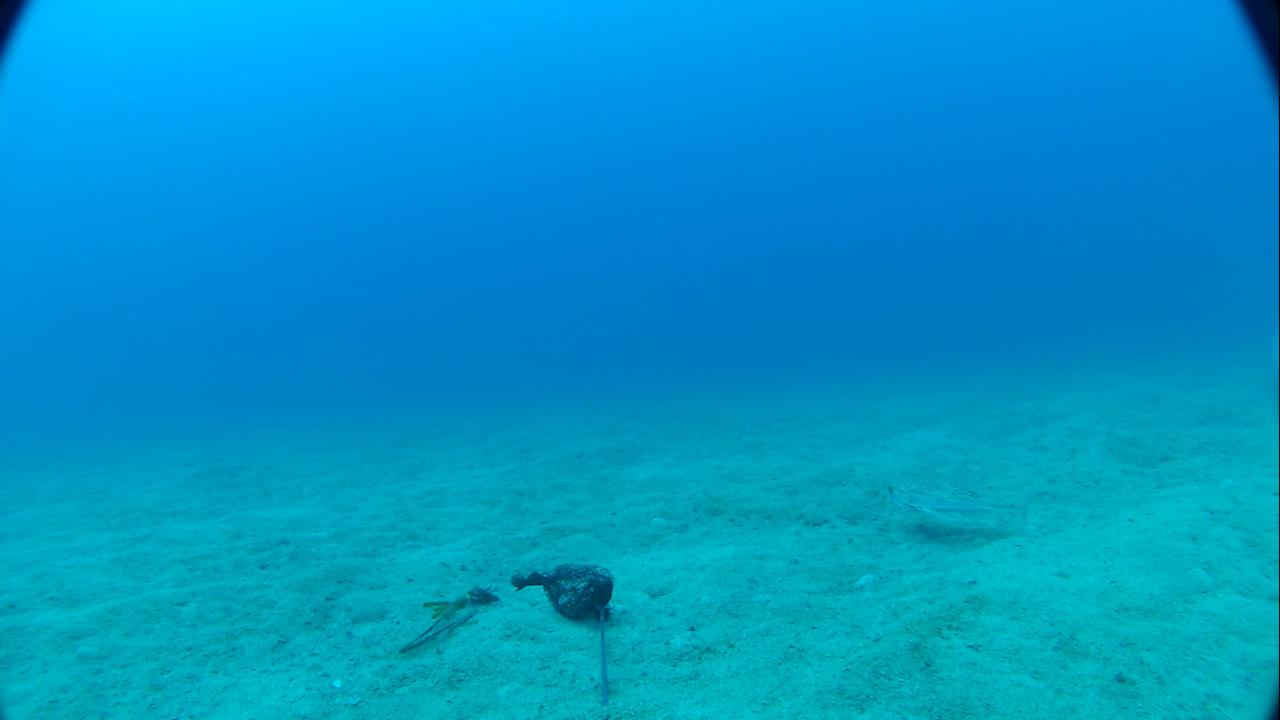dactylopterus: (868, 473, 1040, 543)
